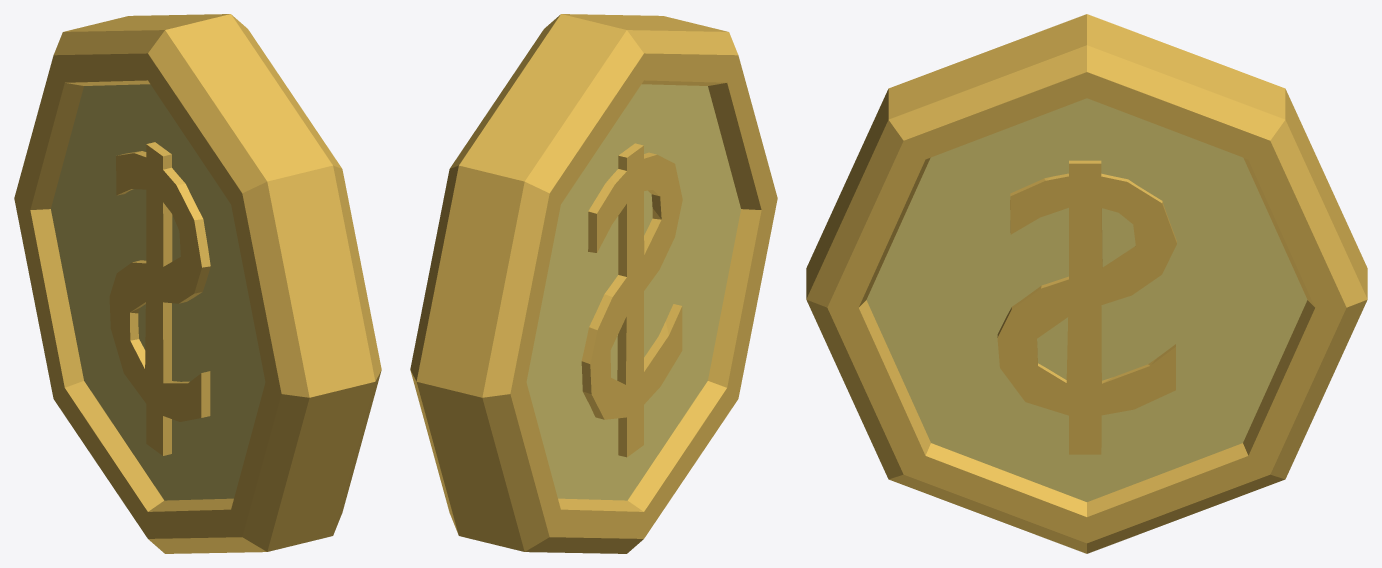
File: CoinDollarSign.glb
3 renders of one model, left to right at view 1: azimuth 30°, elevation 25°; view 2: azimuth 150°, elevation 25°; view 3: azimuth 270°, elevation 25°, orthographic. The views are drawn at different scales.
Visible parts, largest first — view 1: Coin_Cylinder; view 2: Coin_Cylinder; view 3: Coin_Cylinder.
Part boxes in pixels (x1,y1,x2,y2): Coin_Cylinder: (14, 14, 381, 553); Coin_Cylinder: (410, 14, 777, 553); Coin_Cylinder: (806, 14, 1367, 553).
Bounding box in the file's own units: 0.08 × 0.4 × 0.4.
